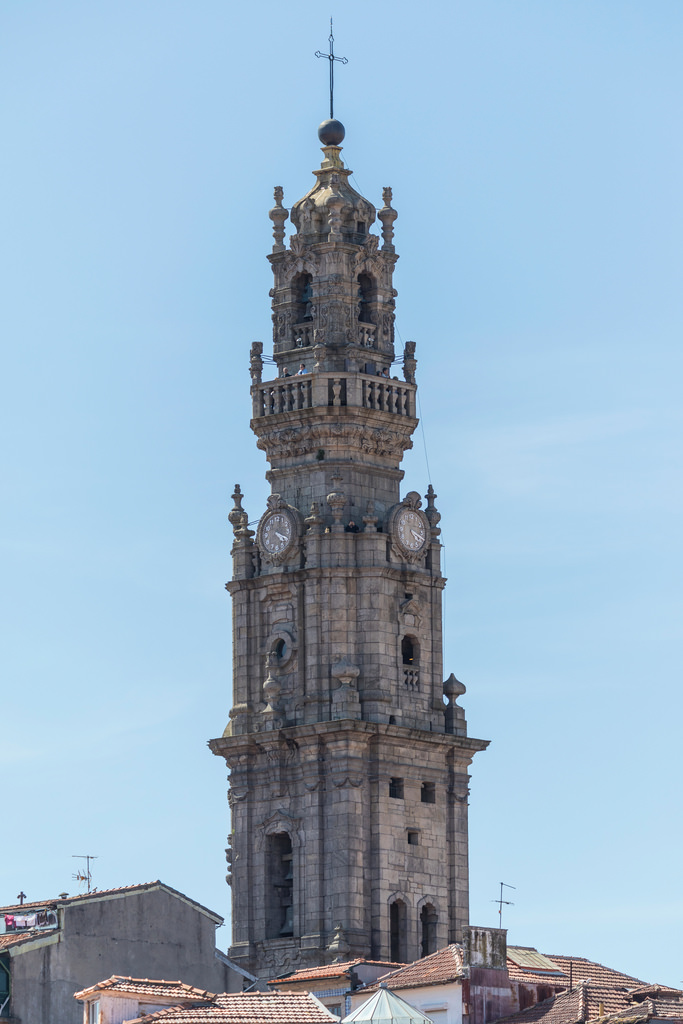clerigos: (206, 14, 493, 967)
